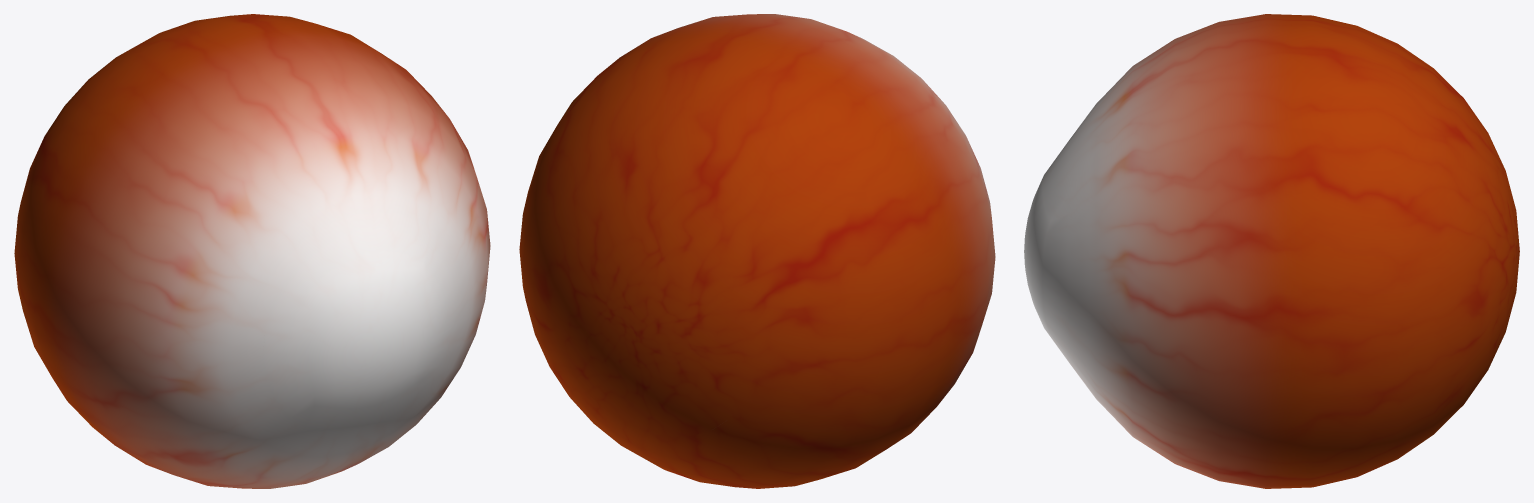
File: eye.glb
3 views of the same model, side by side, from view 1: azimuth 30°, elevation 25°; view 2: azimuth 150°, elevation 25°; view 3: azimuth 270°, elevation 25° (orthographic).
Parts seen in each view (by area): view 1: Eye; view 2: Eye; view 3: Eye.
Part boxes in pixels (x1=…): Eye: x1=14, y1=14, x2=490, y2=488; Eye: x1=519, y1=14, x2=995, y2=488; Eye: x1=1024, y1=14, x2=1519, y2=488.
Size of the model in its own units: 1.98 by 1.98 by 2.06.
2 materials, 1 textured.
